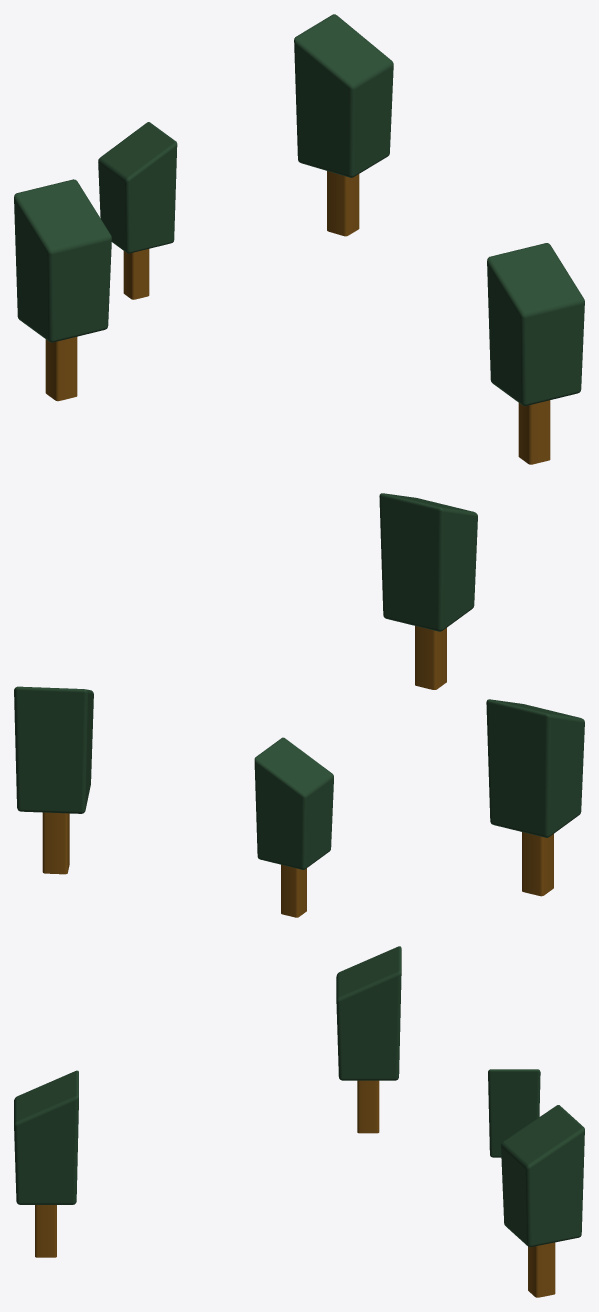
Rendered from trees.glb.
3 views of the same model, one above another, from view 1: azimuth 30°, elevation 25°; view 2: azimuth 150°, elevation 25°; view 3: azimuth 270°, elevation 25° (orthographic). The views are drawn at different scales.
Visible parts, largest first — view 1: tree_top_4, tree_top_1, tree_top_2, tree_top_3, tree_bottom_2, tree_bottom_1, tree_bottom_4, tree_bottom_3; view 2: tree_top_1, tree_top_4, tree_top_2, tree_top_3, tree_bottom_4, tree_bottom_1, tree_bottom_2, tree_bottom_3; view 3: tree_top_2, tree_top_4, tree_top_1, tree_top_3, tree_bottom_2, tree_bottom_4, tree_bottom_1.
Boxes of the visible parts, x1,y1,x2,y2 form: tree_top_4: [14, 179, 111, 342]; tree_top_1: [487, 243, 584, 406]; tree_top_2: [294, 14, 393, 177]; tree_top_3: [98, 122, 177, 253]; tree_bottom_2: [327, 171, 359, 236]; tree_bottom_1: [518, 400, 550, 464]; tree_bottom_4: [45, 337, 77, 401]; tree_bottom_3: [123, 249, 149, 299]; tree_top_1: [379, 493, 477, 631]; tree_top_4: [486, 699, 584, 837]; tree_top_2: [14, 686, 93, 813]; tree_top_3: [254, 737, 333, 869]; tree_bottom_4: [522, 832, 553, 896]; tree_bottom_1: [415, 626, 446, 689]; tree_bottom_2: [42, 812, 69, 874]; tree_bottom_3: [281, 864, 306, 917]; tree_top_2: [501, 1105, 584, 1247]; tree_top_4: [336, 946, 401, 1080]; tree_top_1: [14, 1070, 78, 1204]; tree_top_3: [488, 1069, 540, 1157]; tree_bottom_2: [528, 1242, 555, 1297]; tree_bottom_4: [357, 1080, 379, 1133]; tree_bottom_1: [35, 1205, 56, 1257].
Size of what is drawn, in the model's own units: 12.43 by 5.1 by 15.43.
